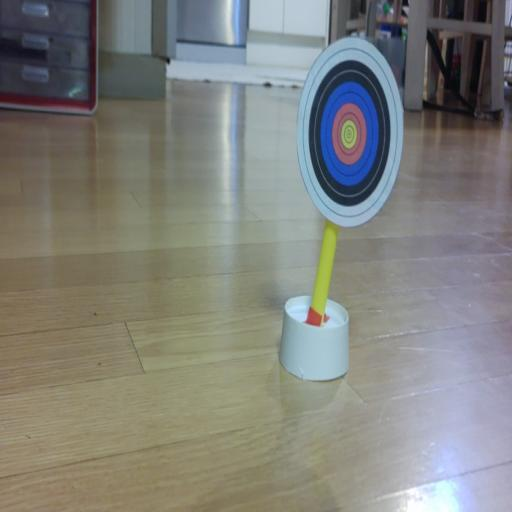target: (297, 37, 404, 227)
